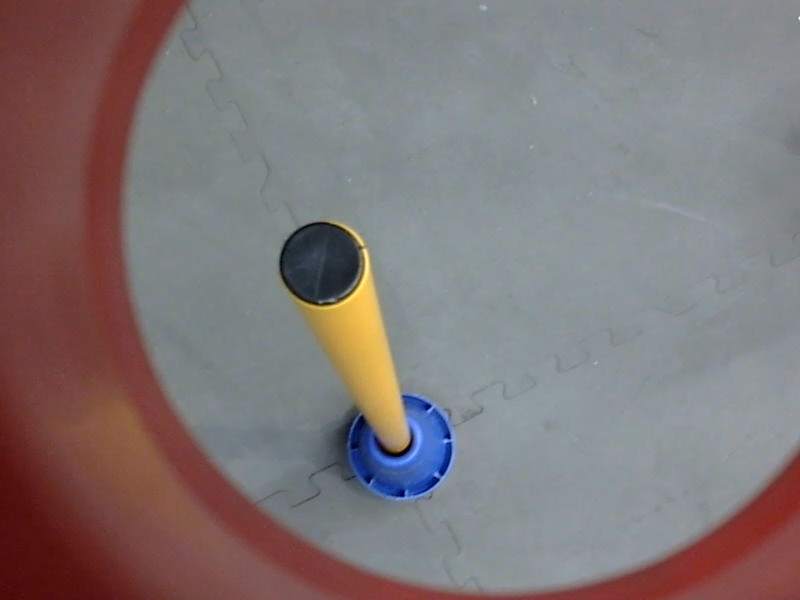tip: (269, 214, 373, 316)
